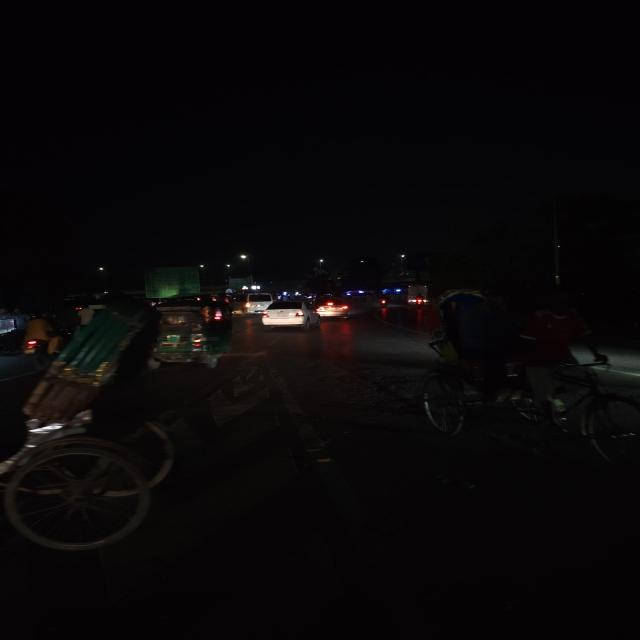car: (259, 298, 321, 332), (314, 297, 354, 321), (238, 292, 274, 314)
cng: (144, 295, 235, 371)
rickshaw: (0, 294, 269, 572), (392, 284, 638, 450)
